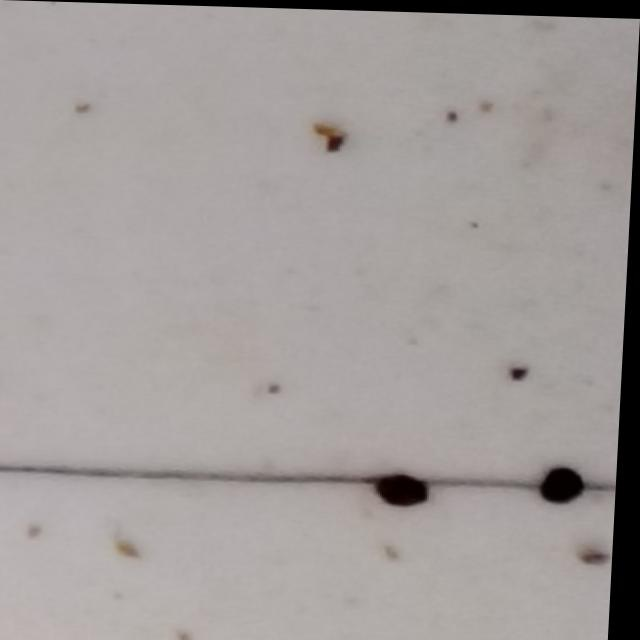varroa: (377, 469, 437, 508), (545, 465, 592, 505)
